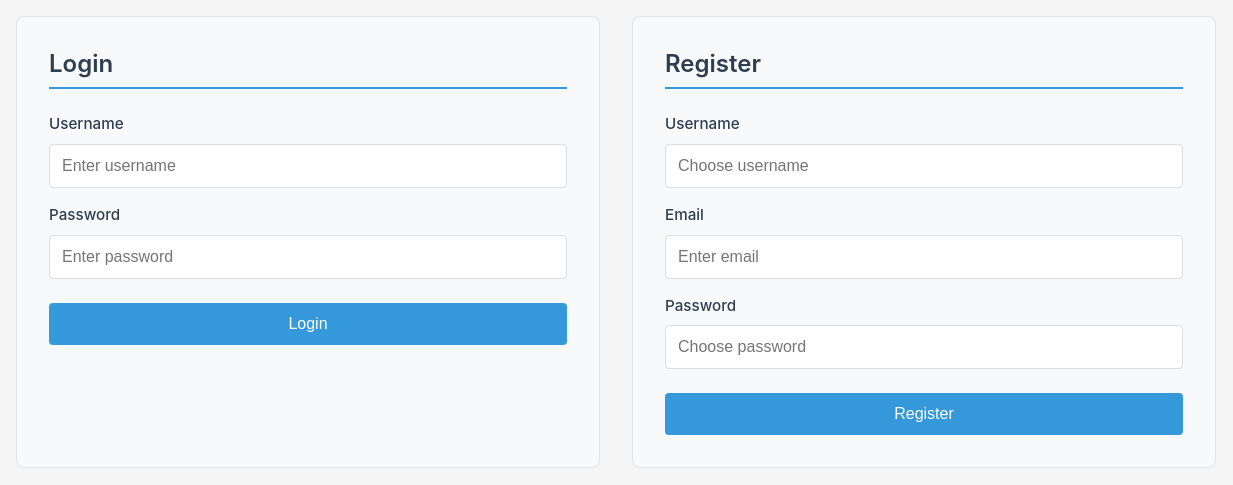
Test: AuthComponent › disables forms while loading
// Fill in login form
In the field with id "login-username": [308, 166] box [49,144,567,188], type "testuser"
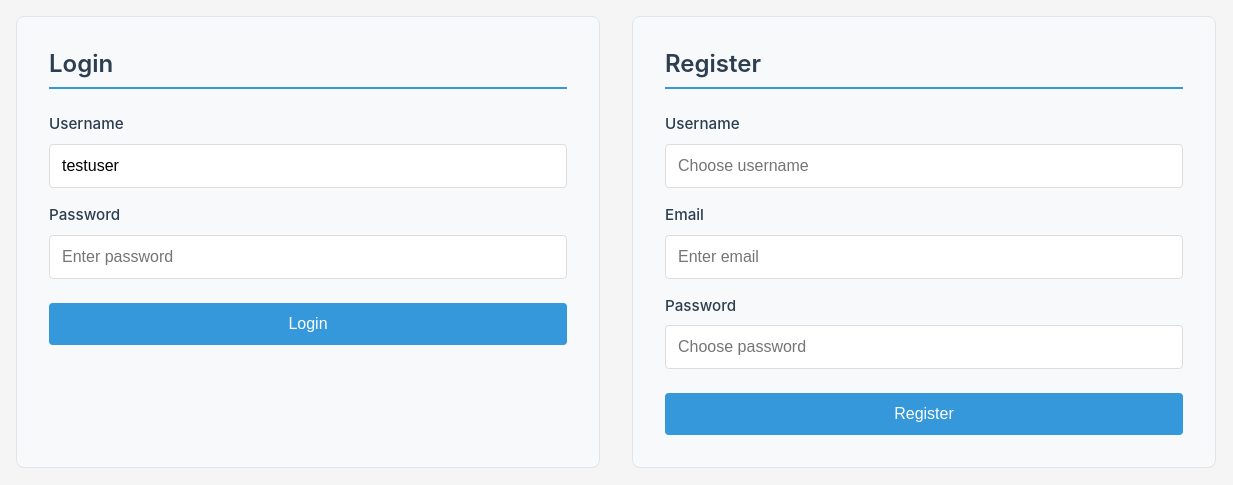
In the password field with id "login-password": [308, 257] box [49,235,567,279], type "testpass"
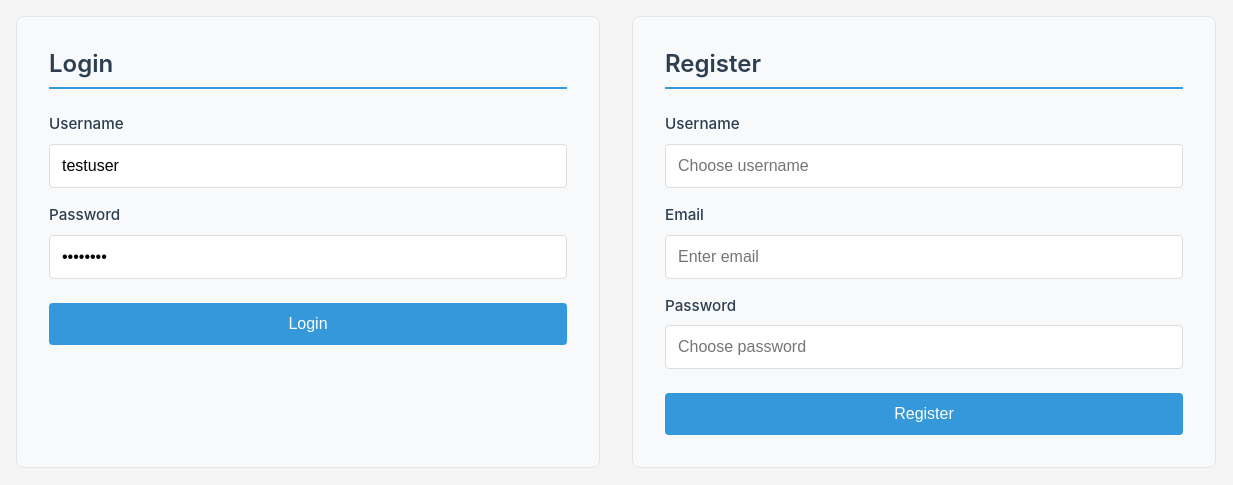
// Submit form
Submit the form with class "auth-form" showing "Username Password Login", box [49,113,567,345]
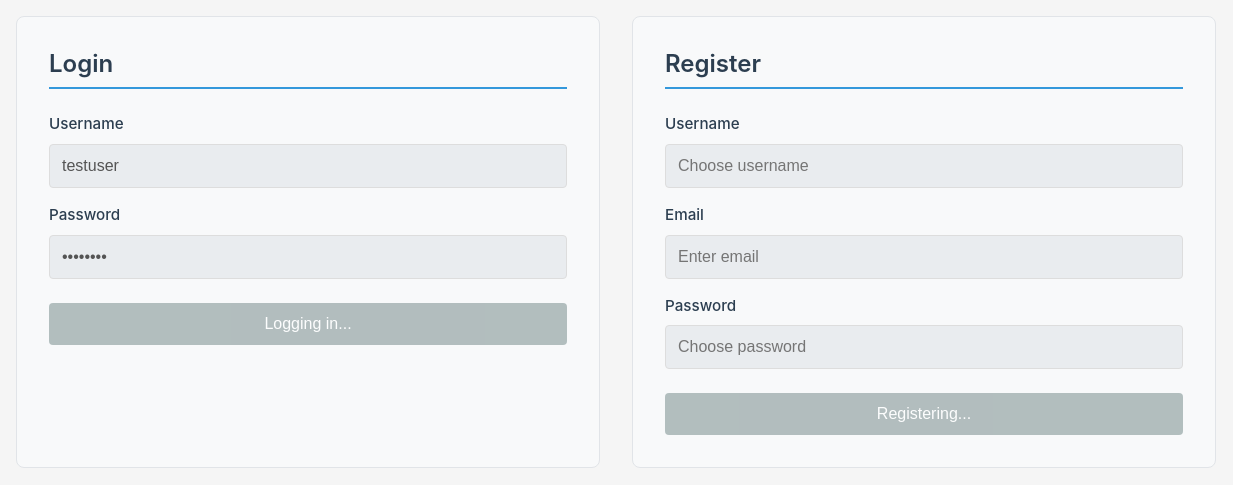
Expected: the field with id "login-username" is disabled, [49,144,567,188]
Expected: the password field with id "login-password" is disabled, [49,235,567,279]
